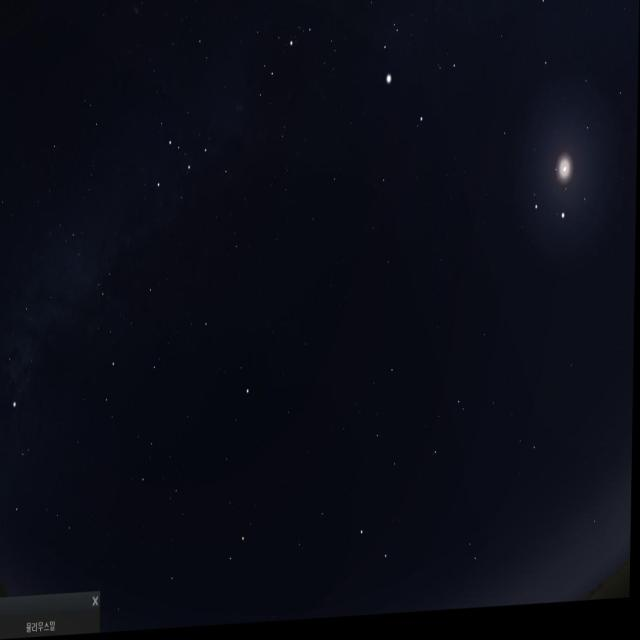cassiopeia: (156, 116, 240, 225)
moon: (547, 135, 589, 215)
